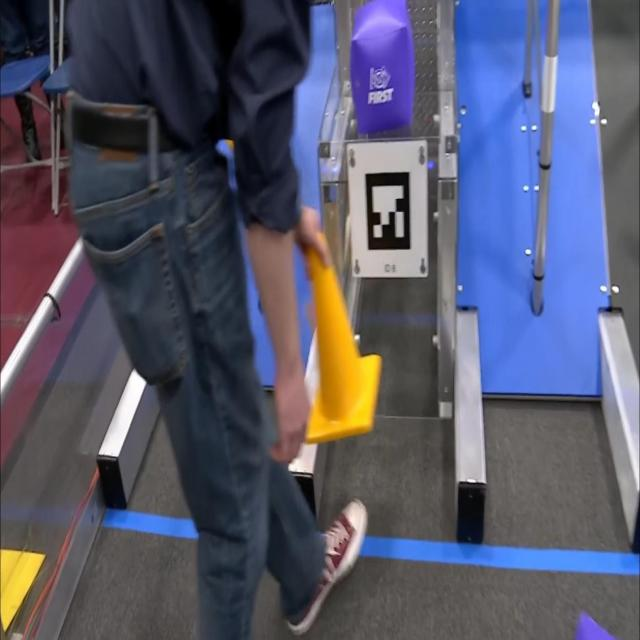frc_cone: (304, 230, 380, 440)
frc_cube: (349, 2, 415, 134), (566, 606, 639, 640)
